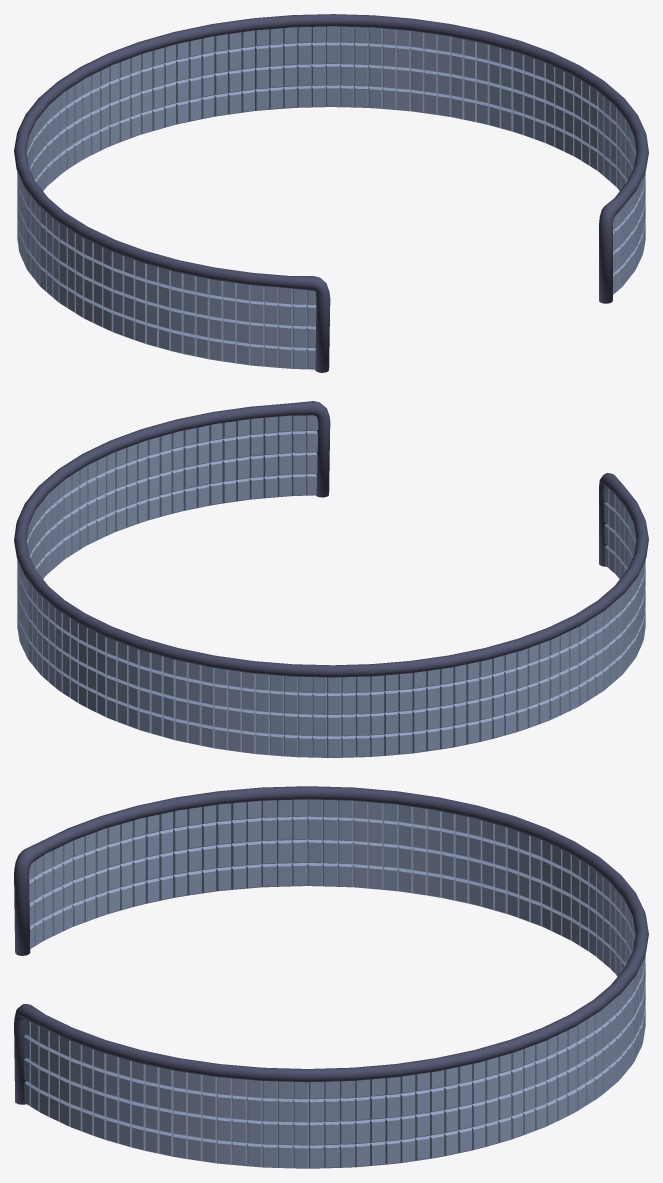
The model's file is FunSmallLvl3.fbx.
The picture shows the model from 3 angles, top to bottom: view 1: azimuth 30°, elevation 25°; view 2: azimuth 150°, elevation 25°; view 3: azimuth 270°, elevation 25°; orthographic projection. The views are drawn at different scales.
Parts seen in each view (by area): view 1: Walls3; view 2: Walls3; view 3: Walls3.
Boxes of the visible parts, x1,y1,x2,y2 form: Walls3: [14, 14, 648, 372]; Walls3: [14, 401, 648, 757]; Walls3: [14, 786, 648, 1168].
Bounding box in the file's own units: 146 × 23.57 × 135.
